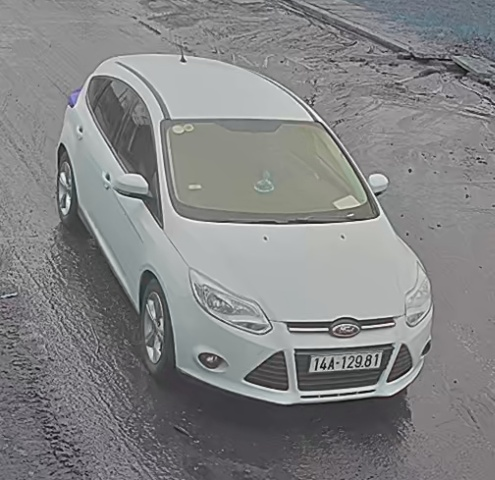vehicle plate: (304, 348, 387, 373)
